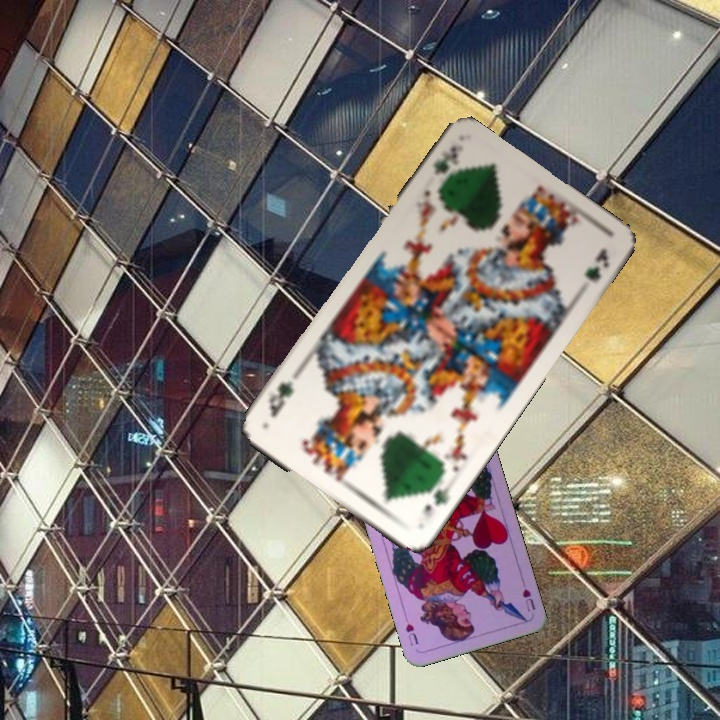GK: (418, 477, 452, 522), (429, 142, 461, 178)
HU: (518, 585, 538, 614)
